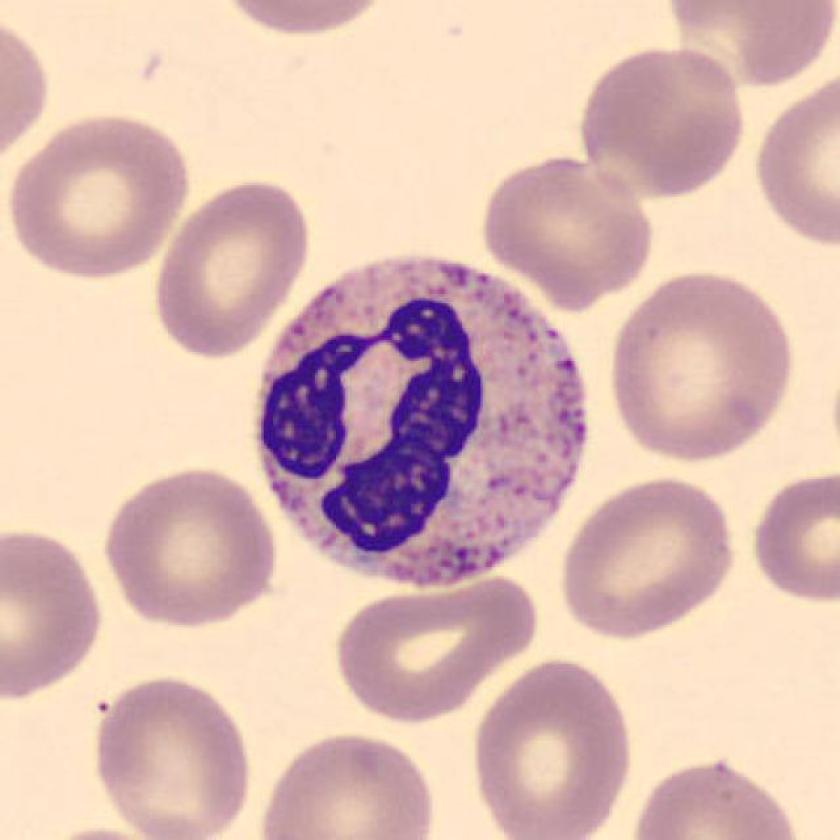neutrophil: (256, 254, 587, 581)
